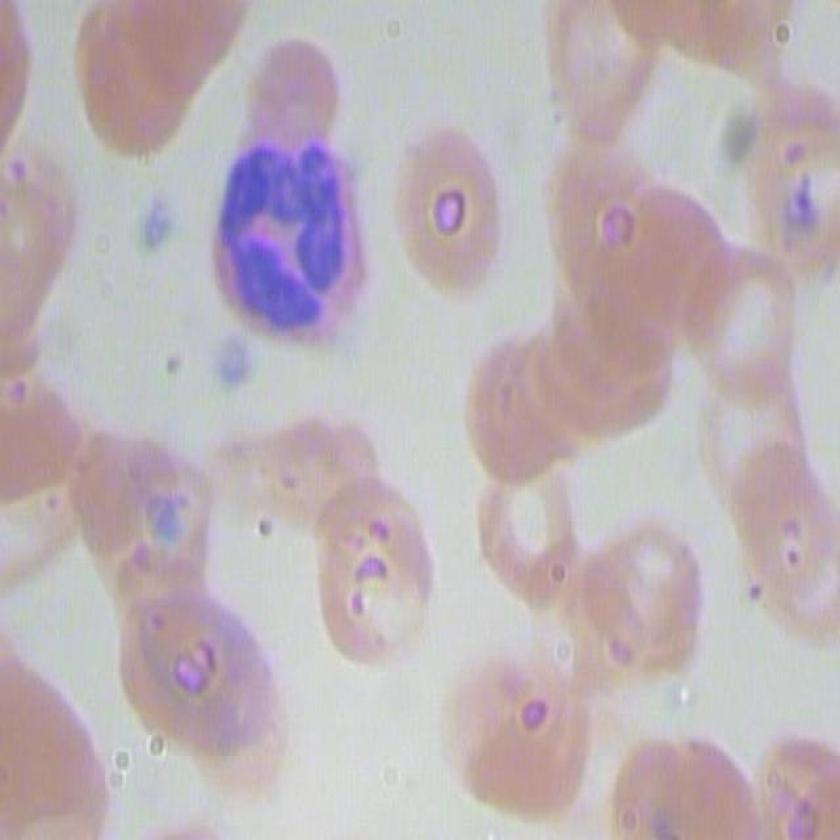neutrophil: (211, 131, 370, 343)
